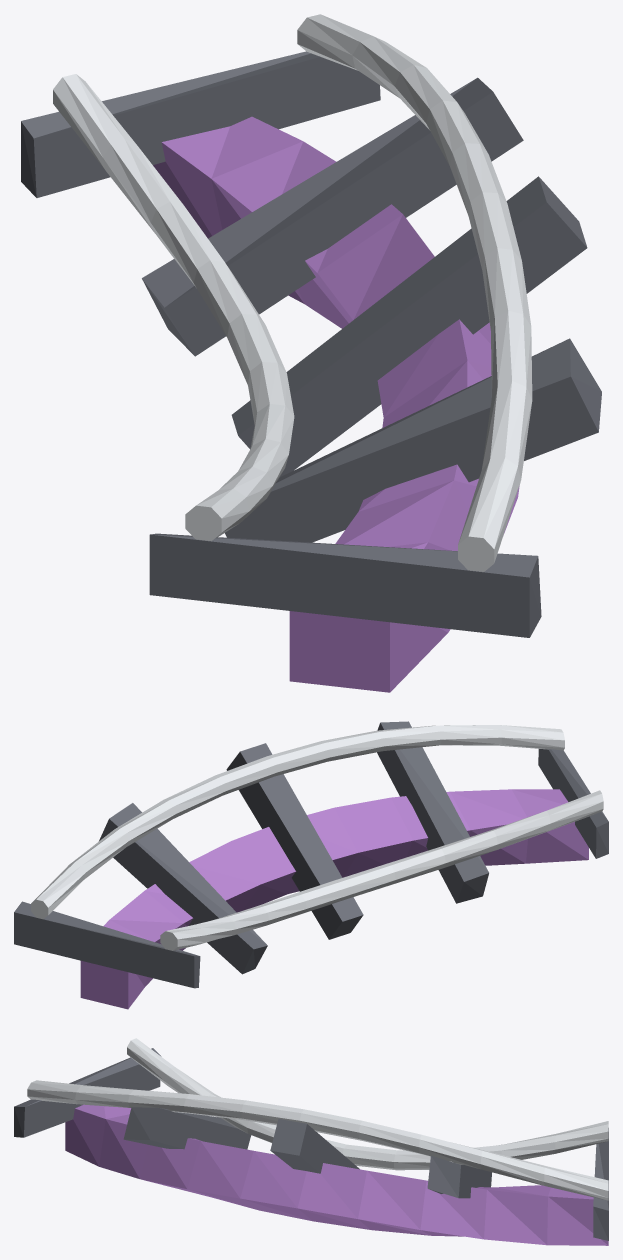
The model's file is theme-park-rides-and-coasters-theme-park-rides-and-coa-2bf86f8c__28625.glb.
3 views of the same model, one above another, from view 1: azimuth 30°, elevation 25°; view 2: azimuth 150°, elevation 25°; view 3: azimuth 270°, elevation 25° (orthographic). The views are drawn at different scales.
Parts seen in each view (by area): view 1: theme-park-rides-and-coasters-track-curve-45-banked; view 2: theme-park-rides-and-coasters-track-curve-45-banked; view 3: theme-park-rides-and-coasters-track-curve-45-banked.
Part boxes in pixels (x1,y1,x2,y2): theme-park-rides-and-coasters-track-curve-45-banked: (21,14,601,692); theme-park-rides-and-coasters-track-curve-45-banked: (14,721,608,1009); theme-park-rides-and-coasters-track-curve-45-banked: (14,1038,608,1245).
Size of the model in its own units: 2.09 by 0.7939 by 3.21.
